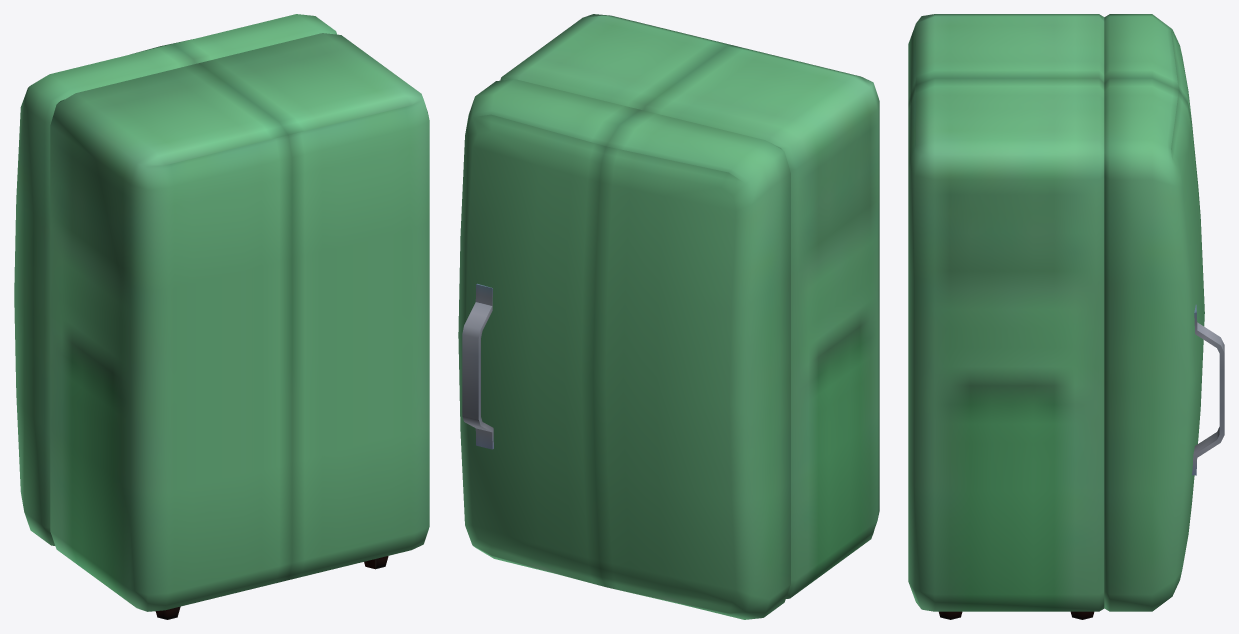
File: Fridge_03.gltf
The picture shows the model from 3 angles, left to right: view 1: azimuth 30°, elevation 25°; view 2: azimuth 150°, elevation 25°; view 3: azimuth 270°, elevation 25°; orthographic projection. The views are drawn at different scales.
Parts seen in each view (by area): view 1: Fridge_03; view 2: Fridge_03; view 3: Fridge_03.
Part boxes in pixels (x1,y1,x2,y2): Fridge_03: (14, 14, 429, 619); Fridge_03: (458, 14, 879, 619); Fridge_03: (908, 14, 1224, 619).
Size of the model in its own units: 32.86 by 49.98 by 29.55.
1 material, 1 textured.
